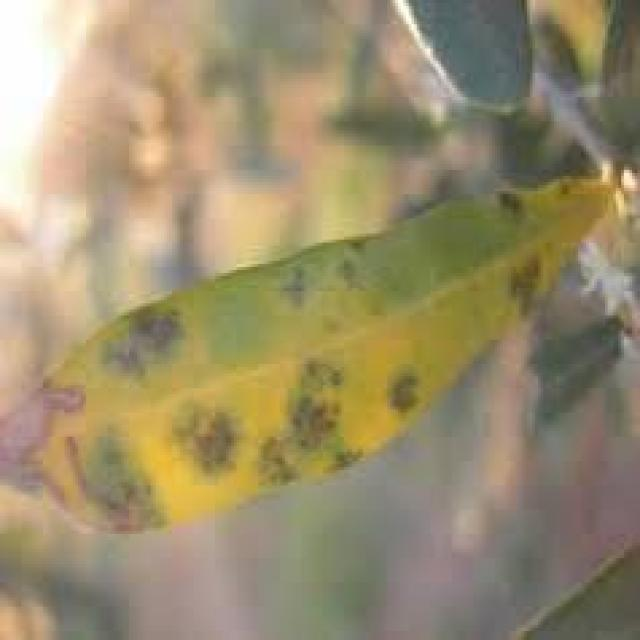Peacock Eye: (3, 179, 610, 528)
